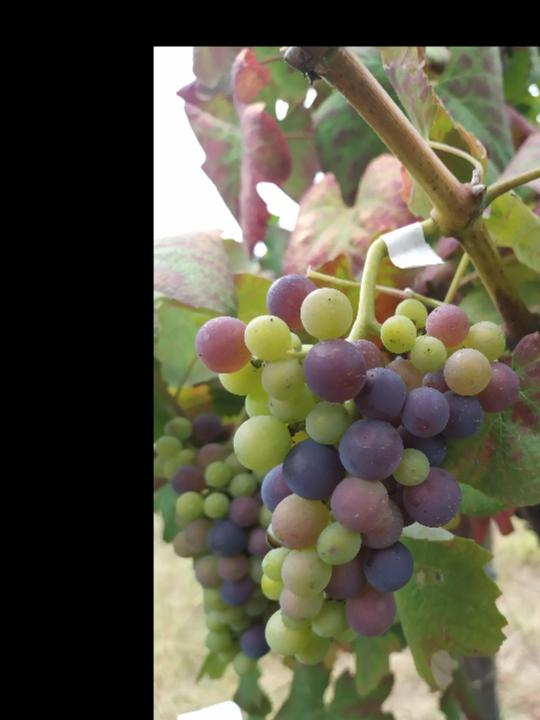grape: (192, 269, 524, 669)
